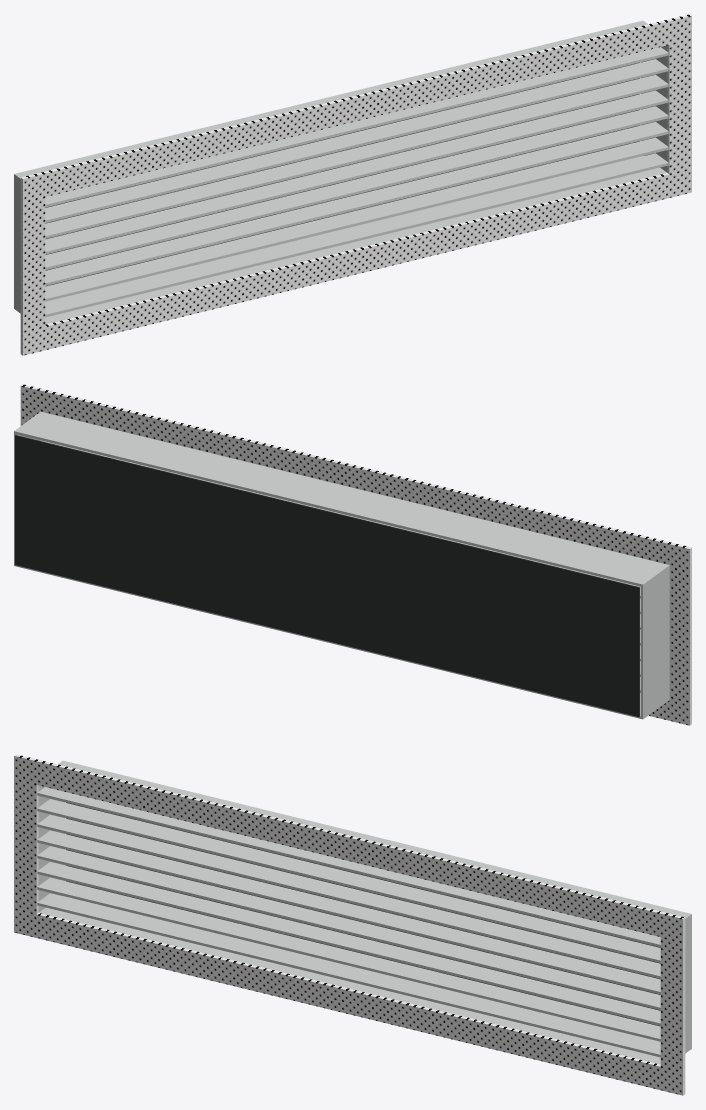
File: ecoclima-ebls-500x100.glb
3 renders of one model, top to bottom at view 1: azimuth 30°, elevation 25°; view 2: azimuth 150°, elevation 25°; view 3: azimuth 330°, elevation 25°, orthographic.
Parts seen in each view (by area): view 1: Profile_cornice, Profile_cornice.001, Profile_barra, Profile_barra.001, Profile_barra.004, Profile_barra.006, Profile_barra.003, Profile_barra.002, Profile_barra.005, Profile_barra.007, Profile_ritorno.001, Interno (+5 smaller); view 2: Interno, Profile_ritorno, Profile_cornice, Profile_ritorno.002, Profile_cornice.002, Profile_ritorno.001, Profile_barra.006, Profile_cornice.001; view 3: Profile_cornice, Profile_cornice.001, Profile_barra, Profile_barra.001, Profile_barra.004, Profile_barra.006, Profile_barra.003, Profile_barra.002, Profile_barra.005, Profile_barra.007, Profile_ritorno.001, Interno (+5 smaller).
Boxes of the visible parts, x1,y1,x2,y2 form: Profile_cornice: (20,14,691,202); Profile_cornice.001: (20,169,691,355); Profile_barra: (45,153,668,317); Profile_barra.001: (45,137,668,301); Profile_barra.004: (45,90,668,254); Profile_barra.006: (45,59,668,222); Profile_barra.003: (45,106,668,270); Profile_barra.002: (45,122,668,285); Profile_barra.005: (45,74,668,238); Profile_barra.007: (45,47,668,207); Profile_ritorno.001: (14,156,666,324); Interno: (45,62,639,286); Interno: (15,435,639,717); Profile_ritorno: (14,411,669,586); Profile_cornice: (20,384,691,572); Profile_ritorno.002: (640,568,669,716); Profile_cornice.002: (669,568,691,701); Profile_ritorno.001: (14,563,669,719); Profile_barra.006: (41,440,640,598); Profile_cornice.001: (649,697,691,725); Profile_cornice: (14,754,685,942); Profile_cornice.001: (14,909,685,1095); Profile_barra: (37,893,660,1057); Profile_barra.001: (37,877,660,1041); Profile_barra.004: (37,830,660,994); Profile_barra.006: (37,799,660,962); Profile_barra.003: (37,846,660,1010); Profile_barra.002: (37,862,660,1025); Profile_barra.005: (37,814,660,978); Profile_barra.007: (37,787,660,947); Profile_ritorno.001: (39,896,691,1064); Interno: (66,802,660,1026).
Size of the model in its own units: 0.535 by 0.135 by 0.042.
3 materials, 1 textured.
